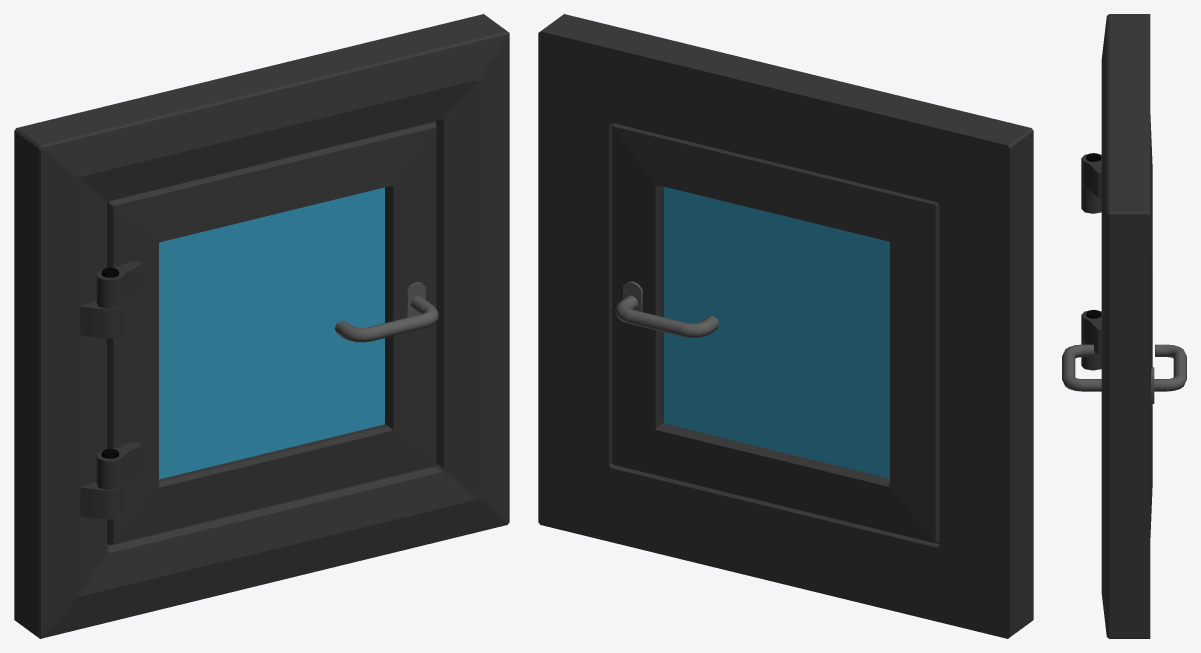
Rendered from window.FBX.
3 renders of one model, left to right at view 1: azimuth 30°, elevation 25°; view 2: azimuth 150°, elevation 25°; view 3: azimuth 270°, elevation 25°, orthographic. The views are drawn at different scales.
Parts seen in each view (by area): view 1: window; view 2: window; view 3: window.
Boxes of the visible parts, x1,y1,x2,y2 form: window: (14, 14, 509, 638); window: (538, 14, 1033, 638); window: (1062, 14, 1186, 638).
Bounding box in the file's own units: 0.5676 × 0.5676 × 0.1502.
